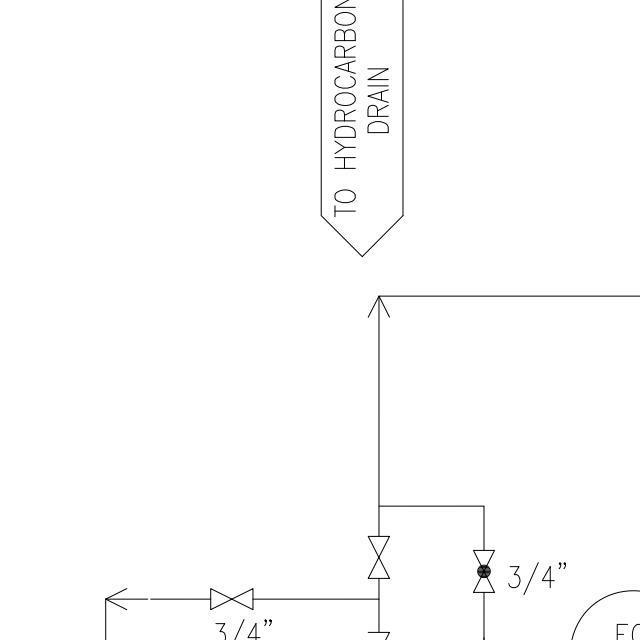BV2: (472, 542, 499, 596)
GV: (203, 582, 257, 614), (363, 530, 394, 584)
